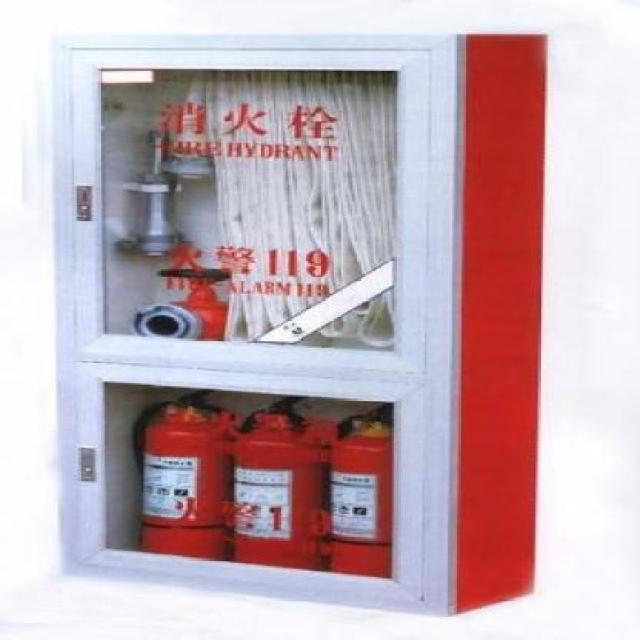firehydrant: (40, 26, 559, 621)
